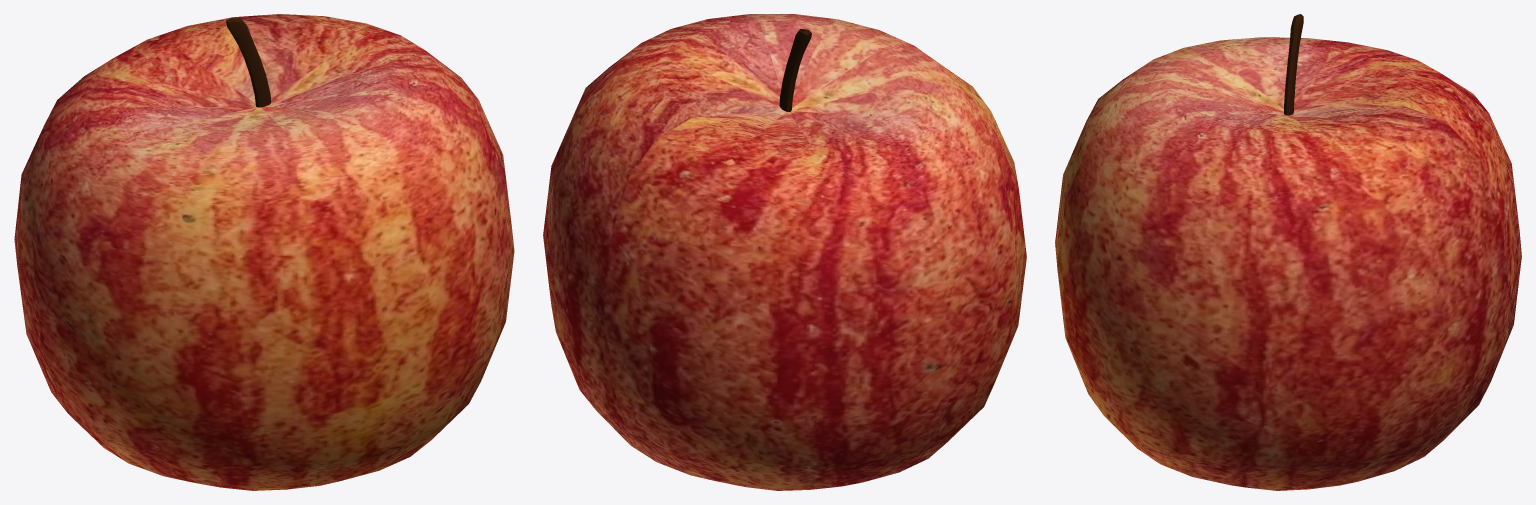
File: apple2.glb
The picture shows the model from 3 angles, left to right: view 1: azimuth 30°, elevation 25°; view 2: azimuth 150°, elevation 25°; view 3: azimuth 270°, elevation 25°; orthographic projection. The views are drawn at different scales.
Visible parts, largest first — view 1: AppleBody.001; view 2: AppleBody.001; view 3: AppleBody.001.
Boxes of the visible parts, box(x1,y1,x2,y2) form: AppleBody.001: box(14, 14, 514, 490); AppleBody.001: box(543, 14, 1026, 490); AppleBody.001: box(1055, 14, 1521, 490).
Size of the model in its own units: 0.2769 by 0.2621 by 0.2668.
2 materials, 1 textured.
